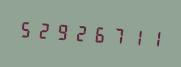five: (17, 14, 34, 43)
nine: (53, 17, 70, 45)
one: (125, 22, 142, 50), (143, 23, 160, 51)
seven: (107, 21, 124, 49)
six: (89, 19, 106, 48)
two: (35, 16, 52, 44), (71, 18, 88, 46)
